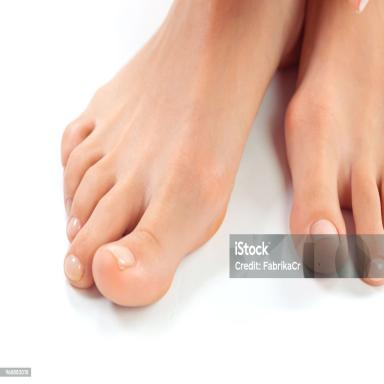normal skin: (61, 0, 384, 306)
